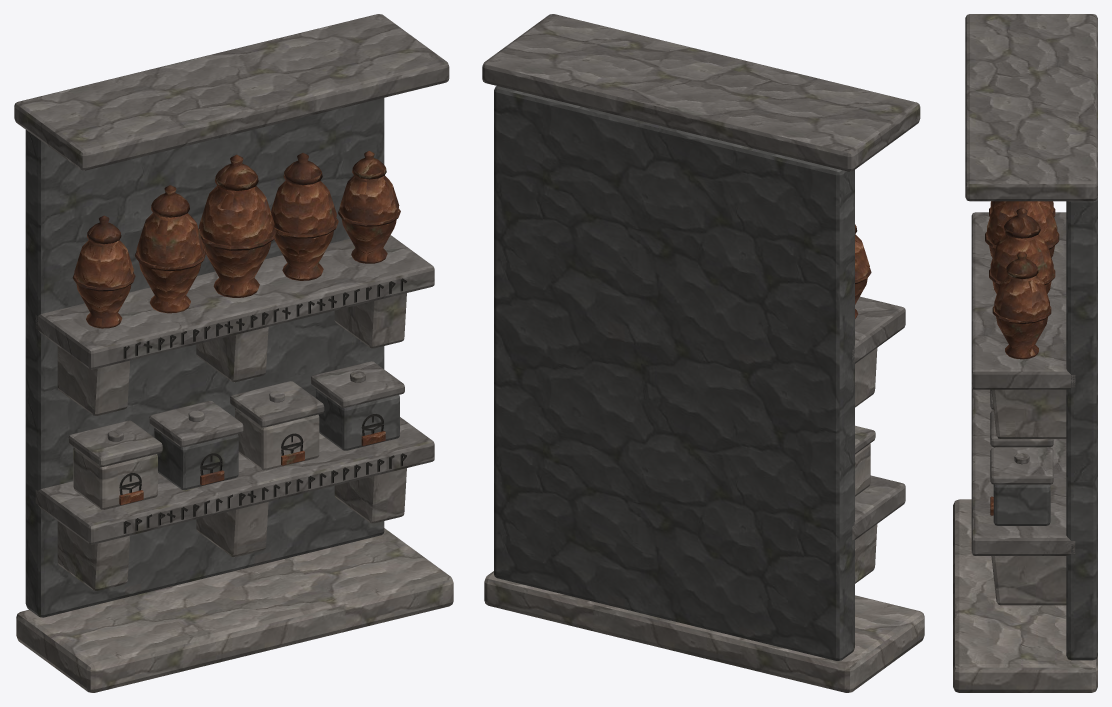
File: th_urn_shelf.glb
3 views of the same model, side by side, from view 1: azimuth 30°, elevation 25°; view 2: azimuth 150°, elevation 25°; view 3: azimuth 270°, elevation 25° (orthographic). The views are drawn at different scales.
Visible parts, largest first — view 1: model; view 2: model; view 3: model.
Boxes of the visible parts, x1=… form: model: x1=14, y1=14, x2=453, y2=692; model: x1=482, y1=14, x2=924, y2=692; model: x1=953, y1=14, x2=1097, y2=692.
Bounding box in the file's own units: 1.28 × 1.79 × 0.4585.
6 materials, 5 textured.
